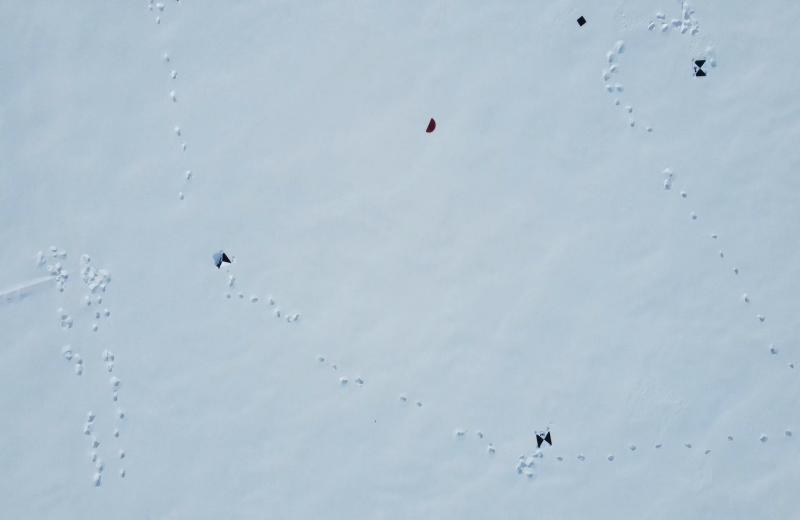Semi Circle: (424, 118, 436, 135)
Square: (576, 15, 586, 28)
